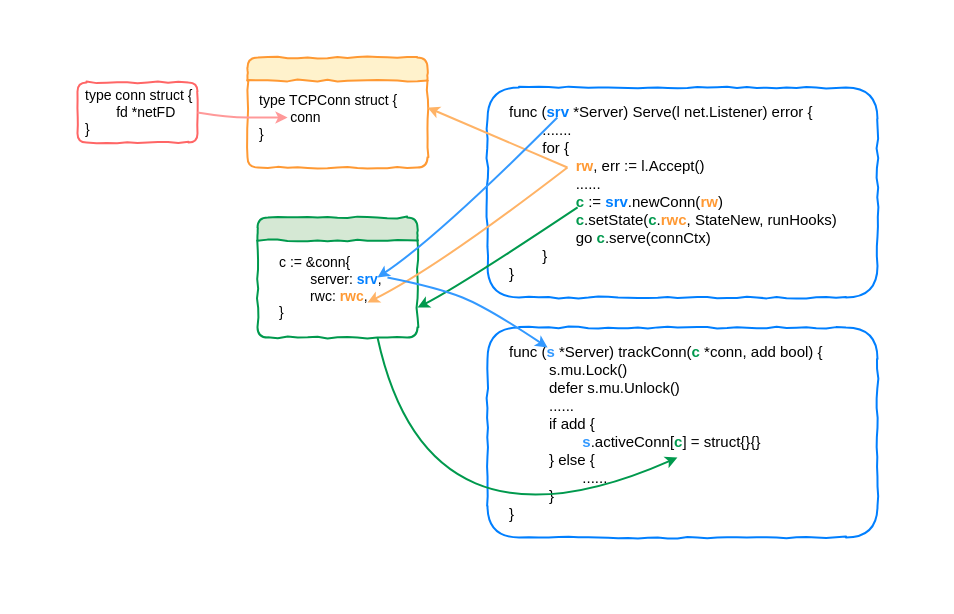
Image size: 954x614. Some labels were removed from this diagram. Each missing label, with the box of its shape:
c (*http.conn): (256, 216, 418, 338)
rw (*net.TCPConn): (246, 56, 428, 168)
